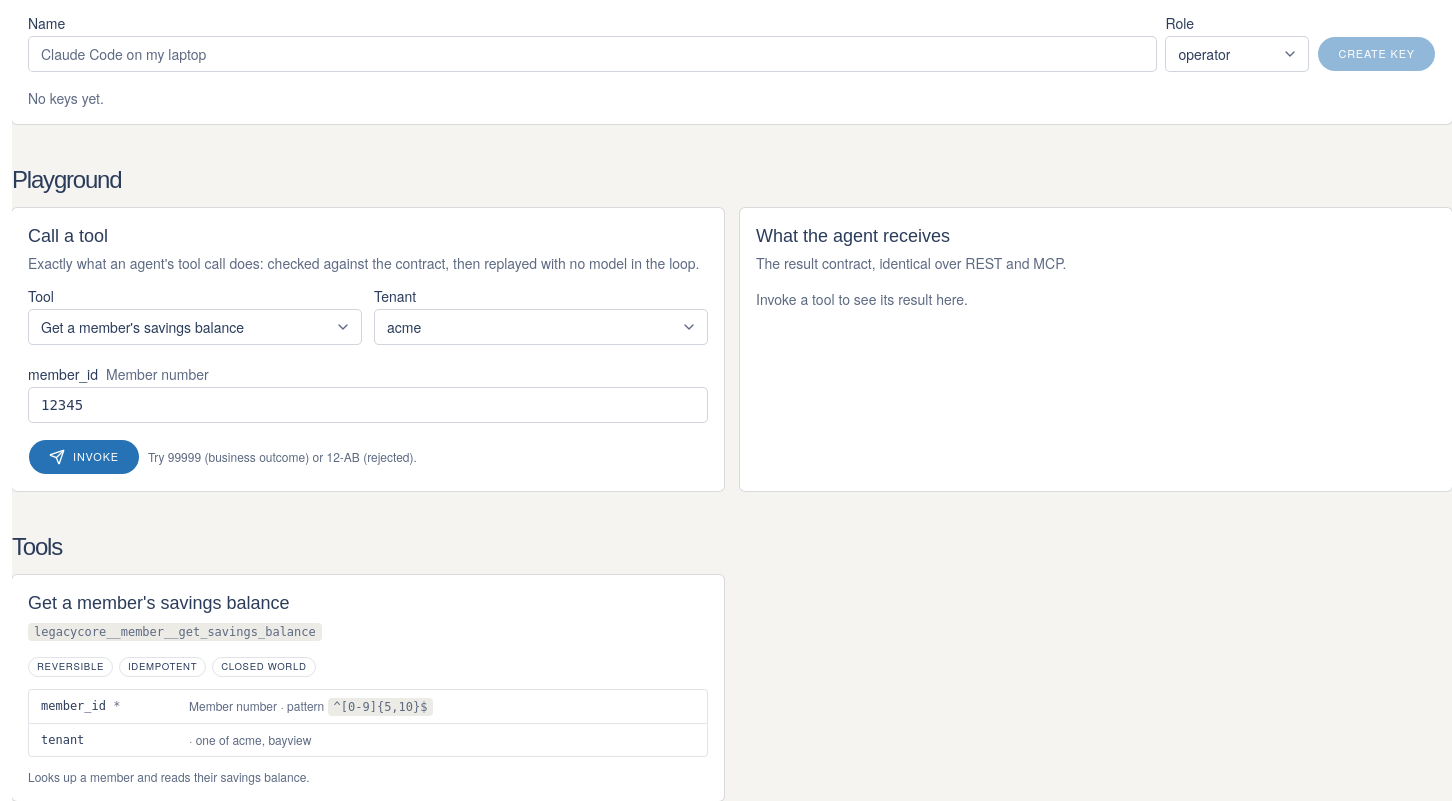
AgentsPage › lists every contract problem from a 422
The image size is (1452, 801).
(page scrolled)
Replace the text in the field labelled "member_id Member number" with "12-AB" at (368, 405), box [28,387,708,423]
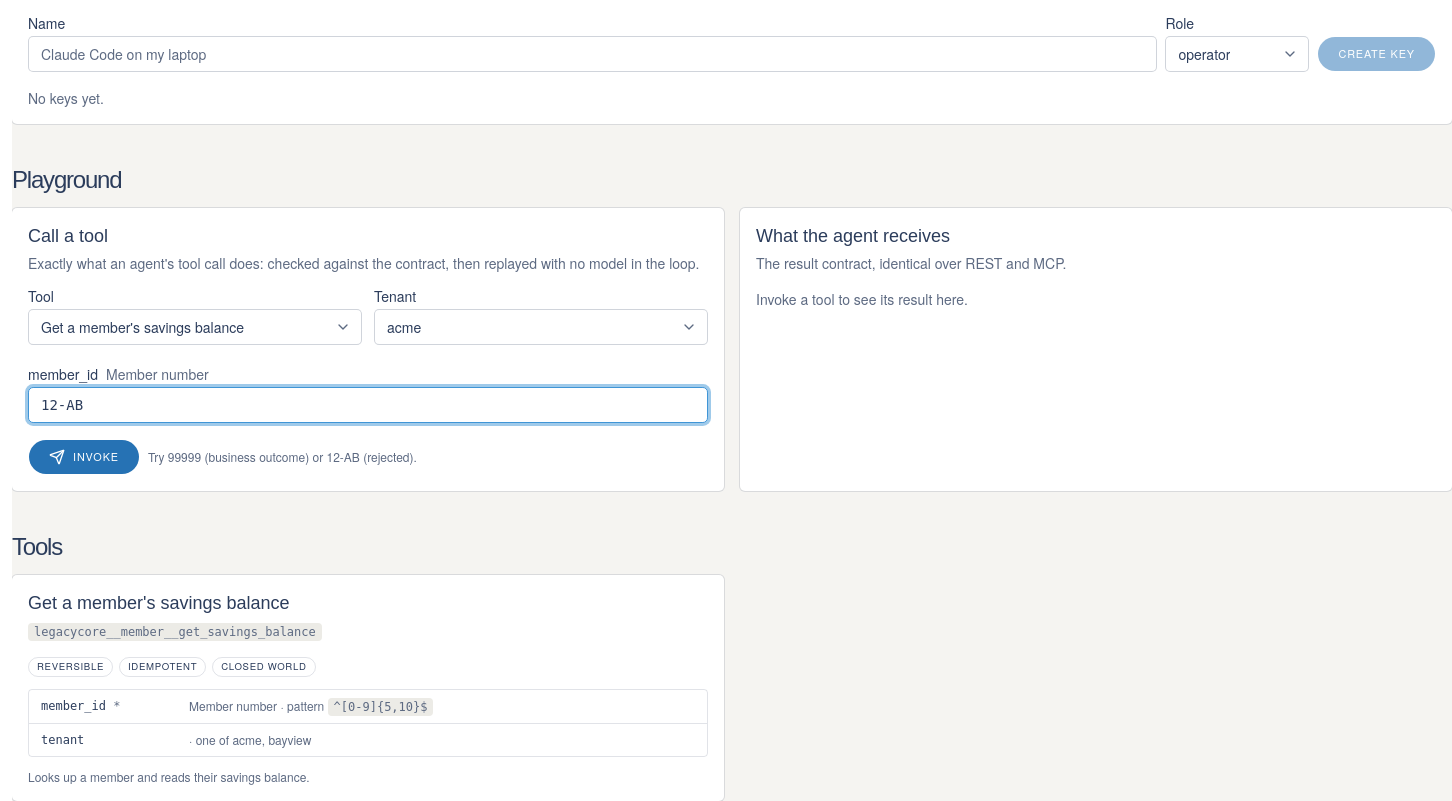
Click the button "Invoke".
click(84, 457)  # box [28,439,140,475]
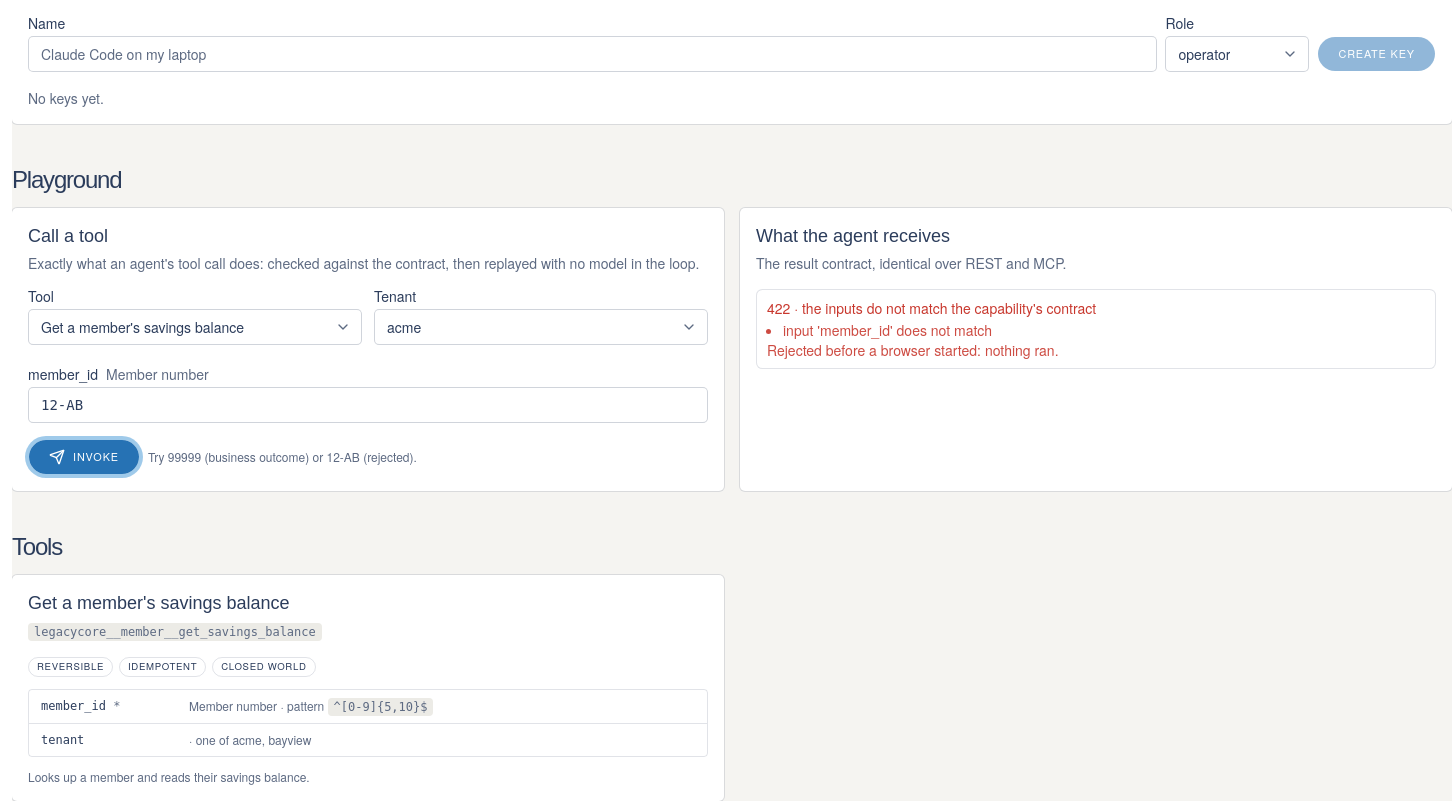
Now the list item "input 'member_id' does not match" is shown, box [783,320,992,340]
Now the text "nothing ran" is shown, box [767,340,1058,360]
